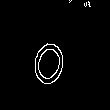O_NE: (31, 22, 79, 88)
